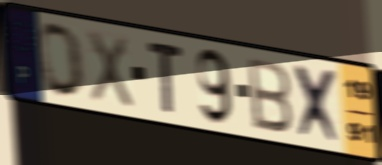9: (195, 46, 235, 127)
B: (245, 55, 295, 136)
O: (37, 20, 86, 101)
T: (145, 38, 185, 117)
X: (291, 61, 344, 149), (85, 26, 136, 112)
